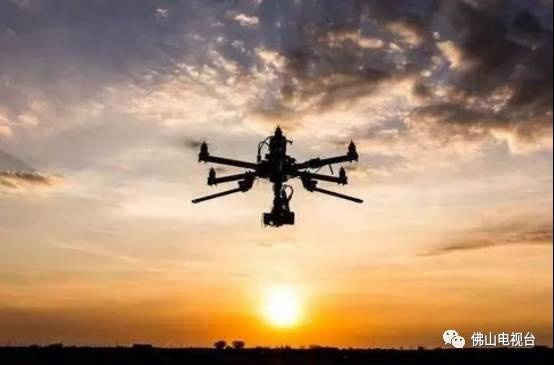DJI: (186, 121, 364, 229)
